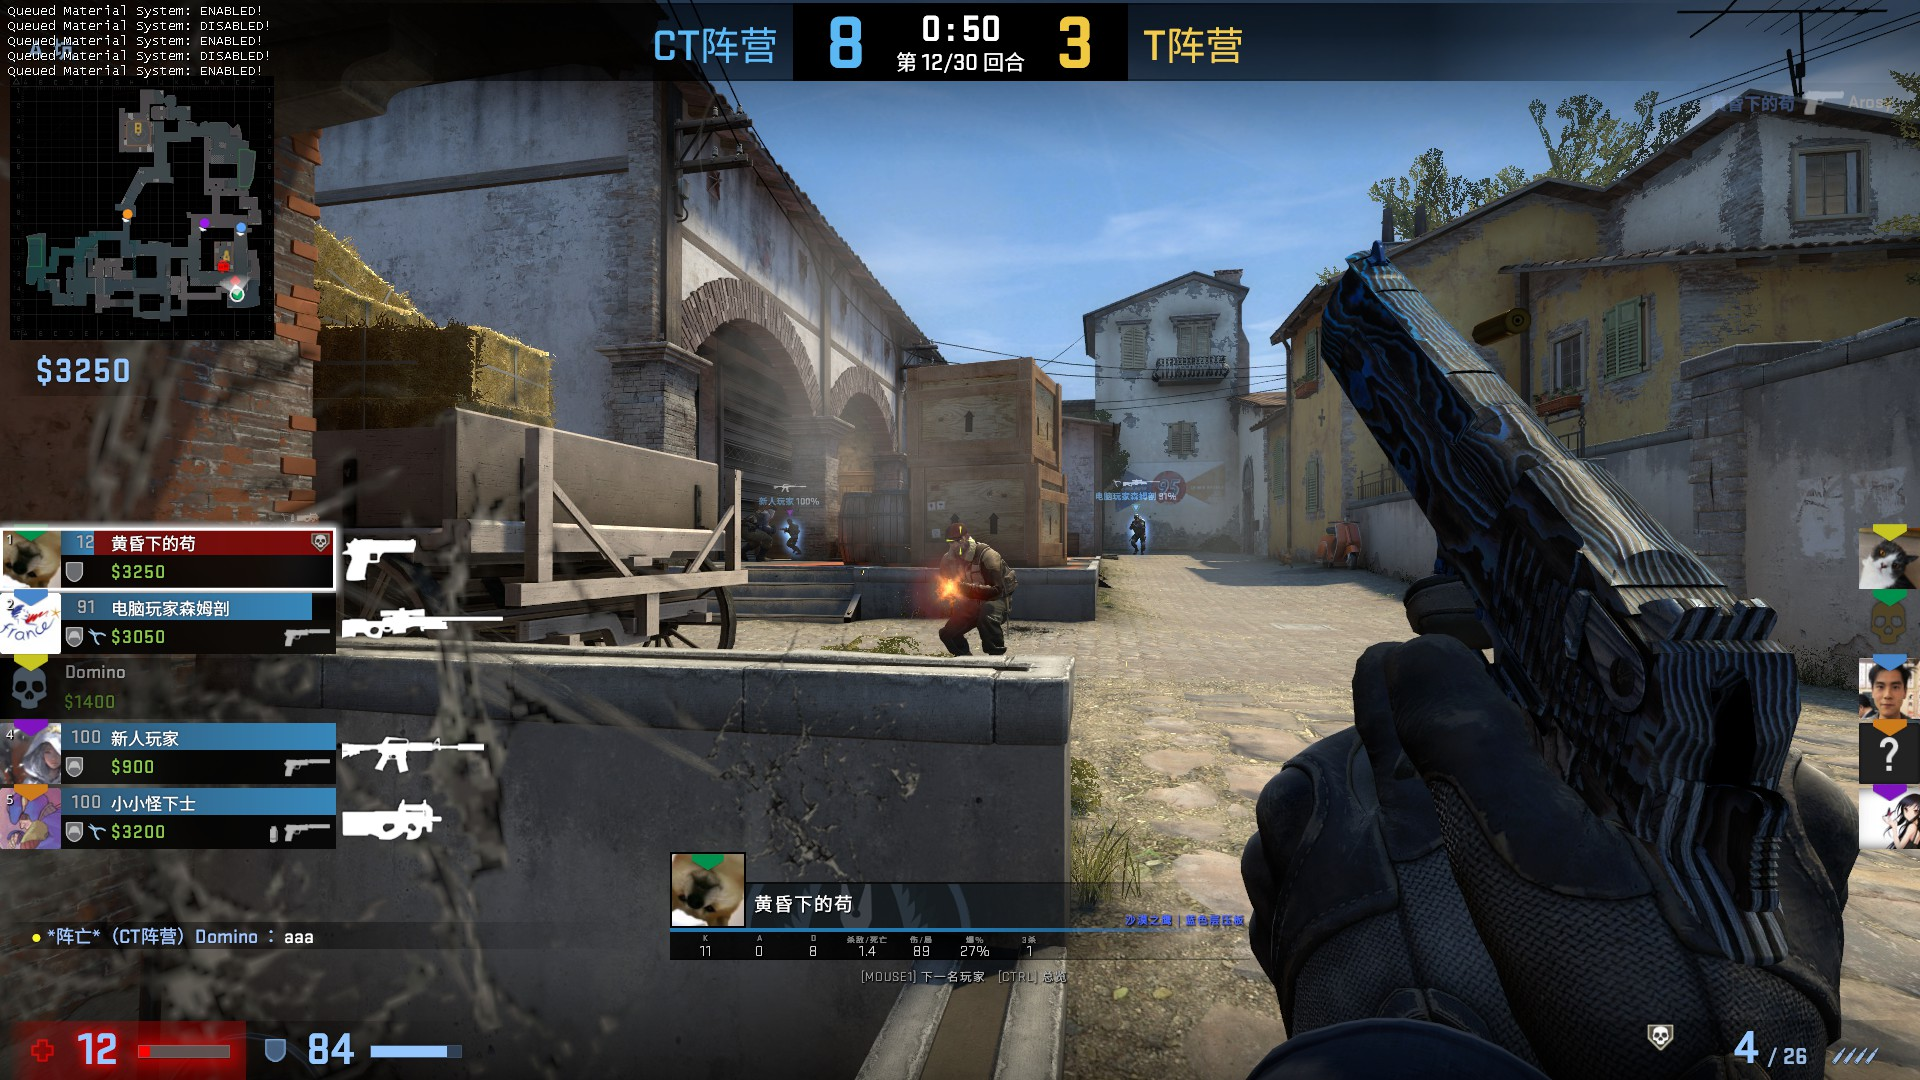head: (940, 522, 979, 565), (762, 503, 777, 521), (1132, 512, 1140, 521)
